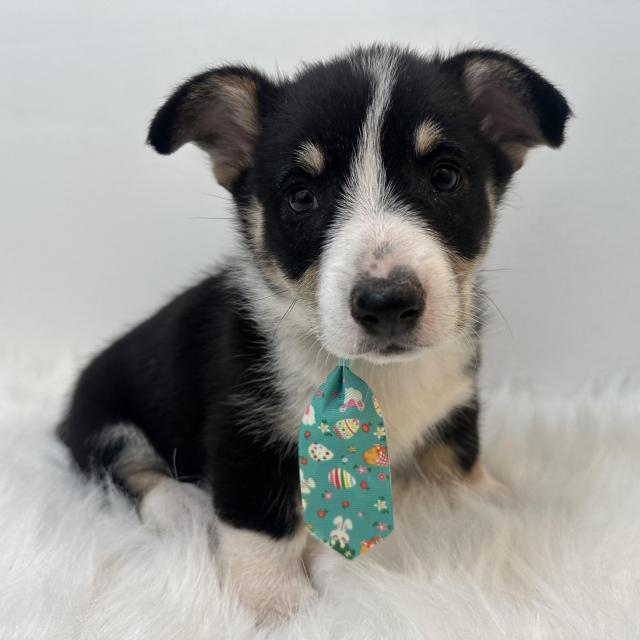corgi_dog: (141, 39, 579, 382)
